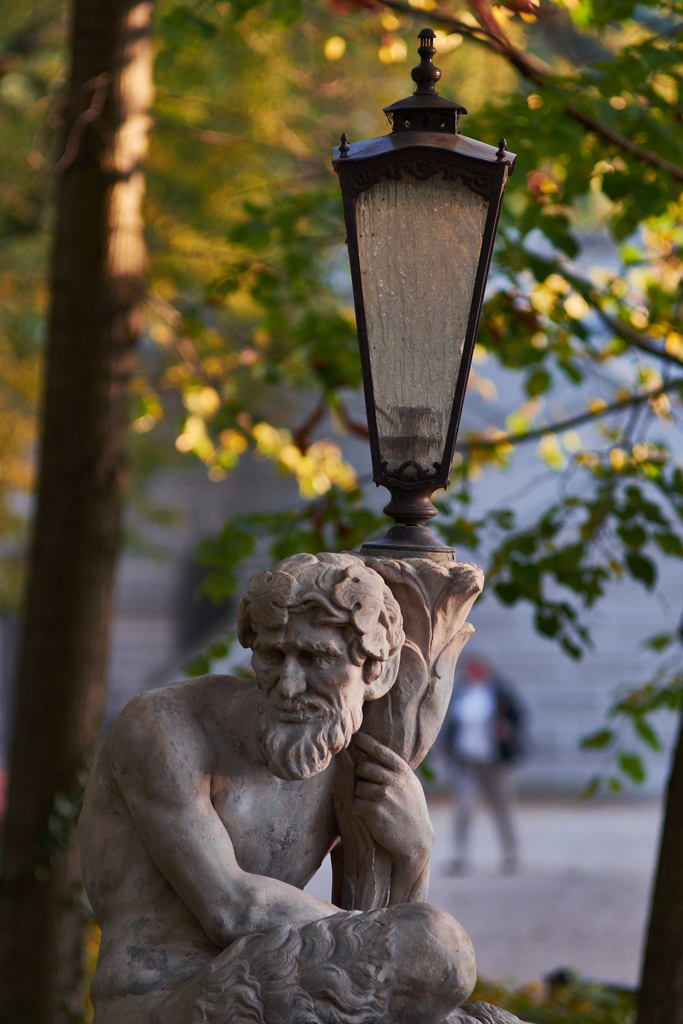person: (439, 645, 528, 884)
